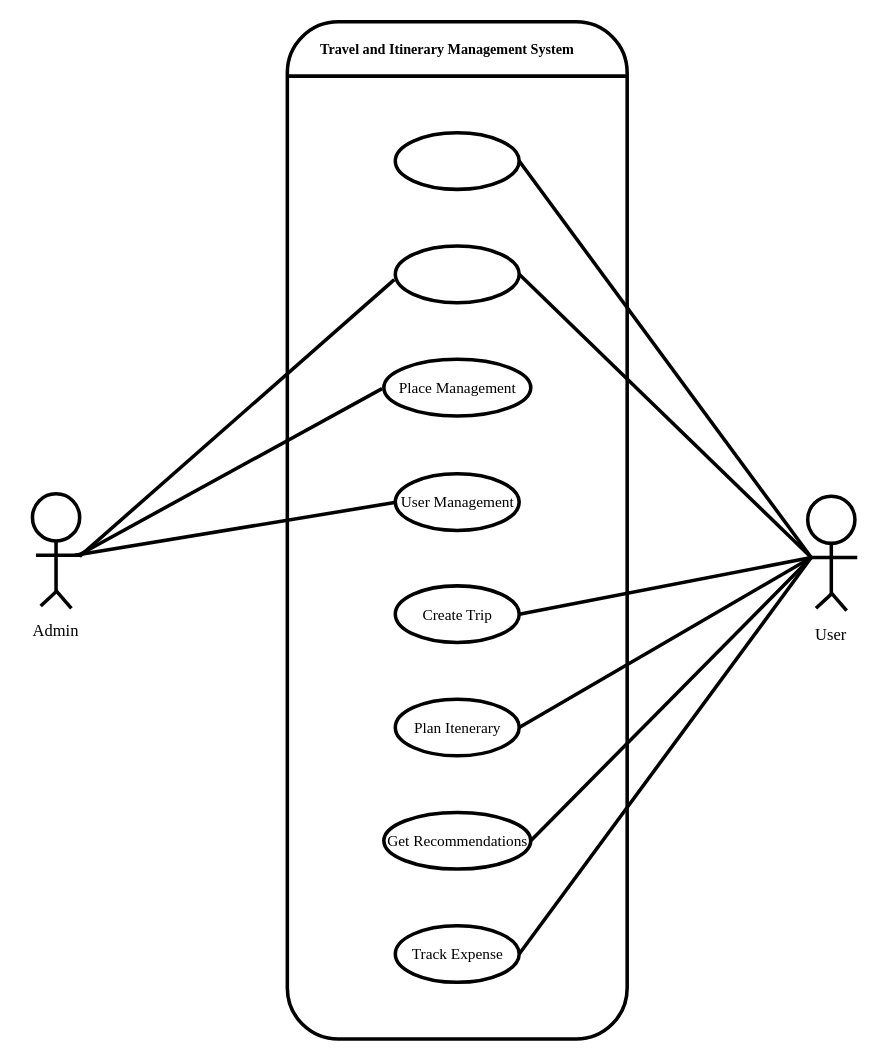
This 886x1061 diagram has some shape labels left out. The shapes that lost their labels are listed below. From the top down, each one's centre as x and y in pixels, then its label:
At [456,160]: "Register".
At [456,274]: "Login".
